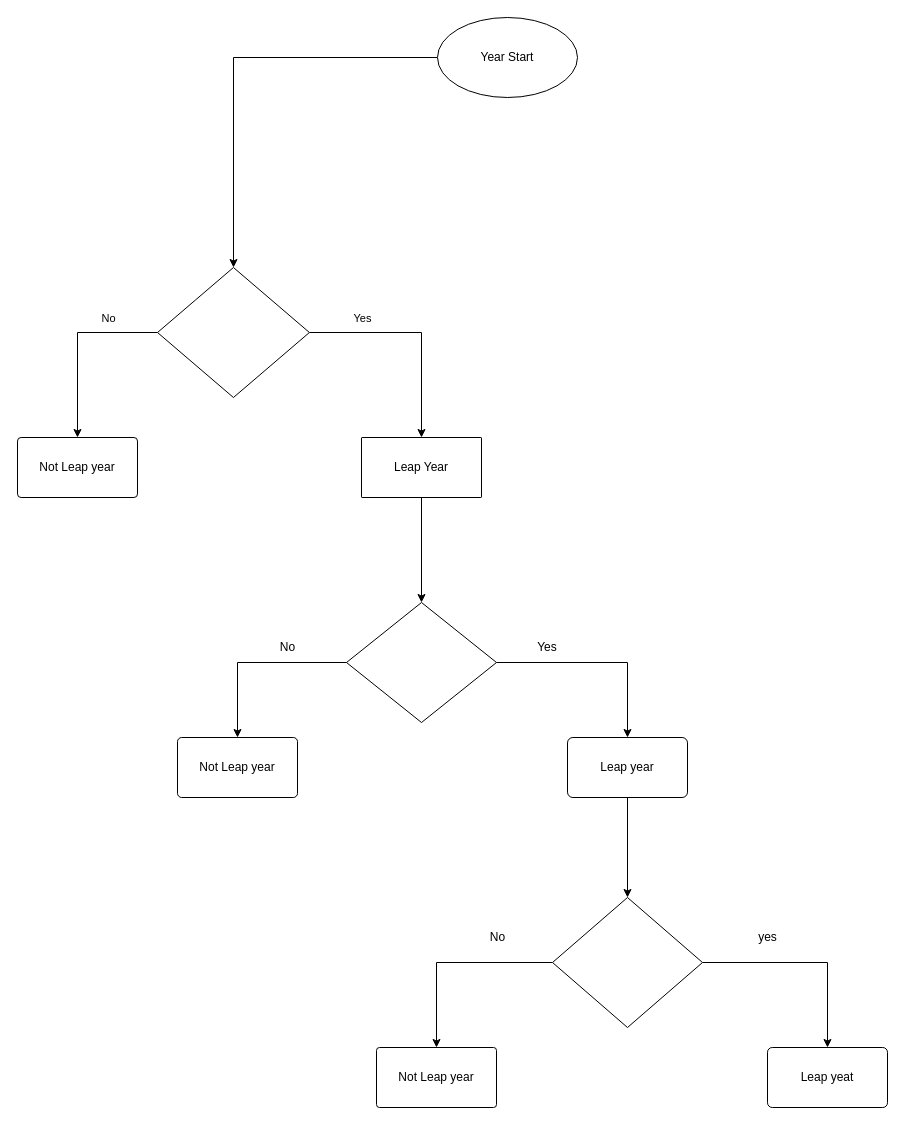
Image size: 905x1125. Some labels were removed from this diagram. Here are the shapes that lost their labels. From the top down, the centre of each, then its label:
At pixel 232 332: "is it cleanly divisible by 4?".
At pixel 421 662: "Is it cleanly divisible by 100?".
At pixel 627 962: "Is it cleanly divisible by 400?".
